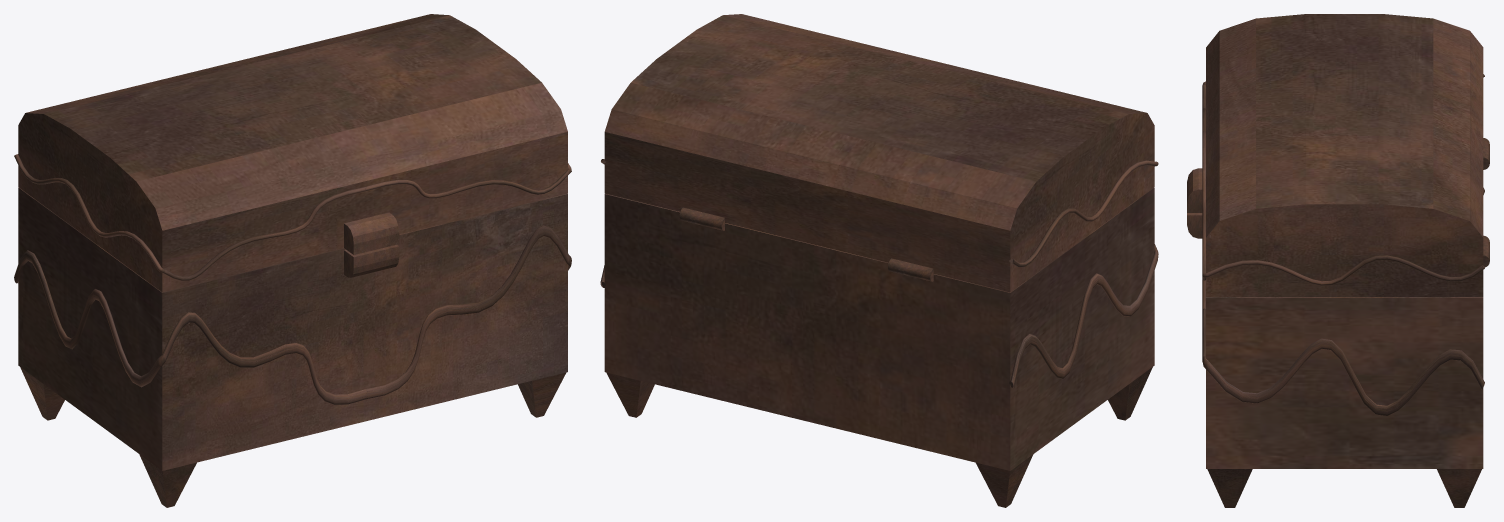
3 renders of one model, left to right at view 1: azimuth 30°, elevation 25°; view 2: azimuth 150°, elevation 25°; view 3: azimuth 270°, elevation 25°, orthographic. The views are drawn at different scales.
Parts seen in each view (by area): view 1: boxspecial, boxspecial.001; view 2: boxspecial, boxspecial.001; view 3: boxspecial.001, boxspecial.
Boxes of the visible parts, left/top/right/bottom form: boxspecial: left=14, top=187, right=571, bottom=507; boxspecial.001: left=14, top=14, right=571, bottom=292; boxspecial: left=600, top=187, right=1158, bottom=507; boxspecial.001: left=601, top=14, right=1158, bottom=292; boxspecial.001: left=1187, top=14, right=1484, bottom=296; boxspecial: left=1187, top=138, right=1489, bottom=507.
Bounding box in the file's own units: 3.31 × 2.47 × 2.18.
Materials: 1 (1 with a texture image).
